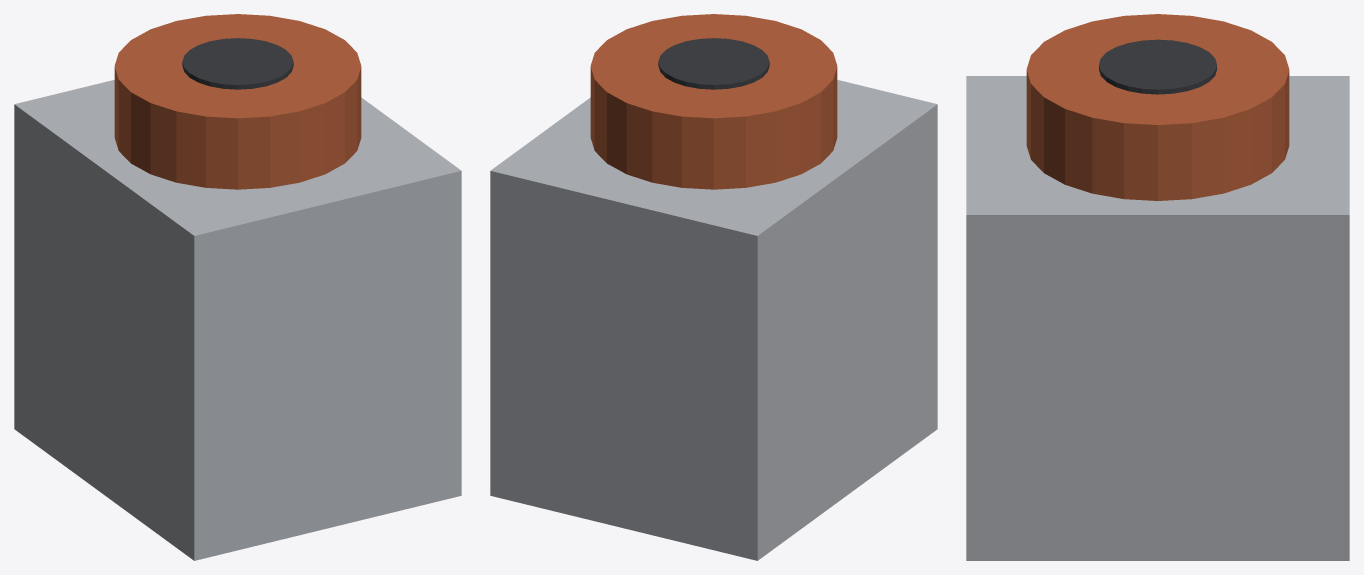
File: tandoor_24.glb
The picture shows the model from 3 angles, left to right: view 1: azimuth 30°, elevation 25°; view 2: azimuth 150°, elevation 25°; view 3: azimuth 270°, elevation 25°; orthographic projection. The views are drawn at different scales.
Bounding box in the file's own units: 0.6096 × 0.8736 × 0.7112.
